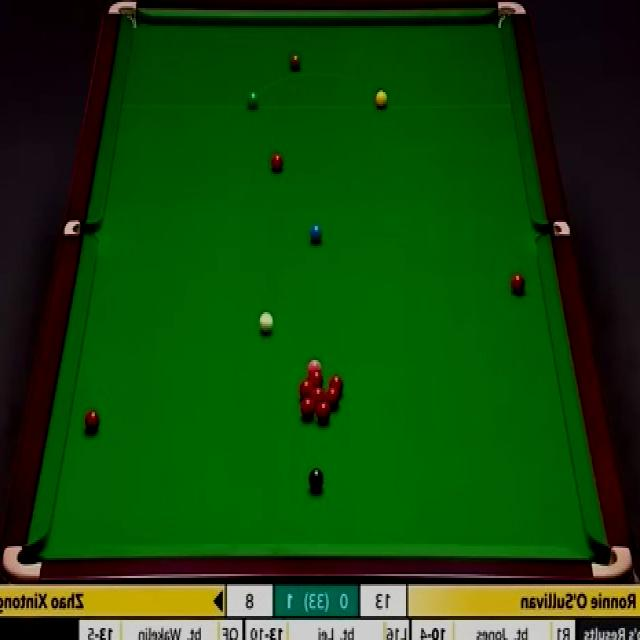black-ball: (307, 466, 324, 491)
blue-ball: (309, 222, 323, 246)
brown-ball: (288, 53, 302, 73)
green-ball: (247, 89, 260, 110)
pink-ball: (308, 360, 321, 377)
red-ball: (510, 269, 525, 297), (85, 408, 100, 435), (308, 384, 323, 406), (270, 151, 284, 174), (317, 402, 330, 425), (301, 398, 315, 419), (329, 374, 342, 394), (327, 387, 339, 408), (296, 379, 309, 398), (310, 375, 323, 386)
white-ball: (260, 309, 274, 332)
yellow-ball: (376, 90, 388, 108)
